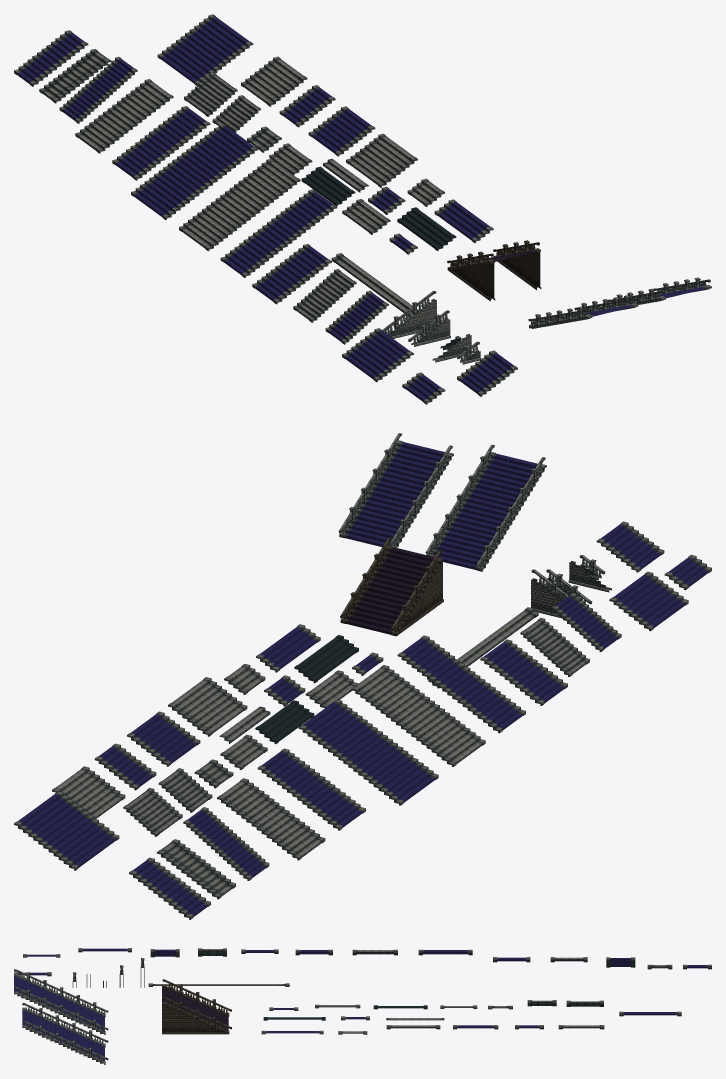
The model's file is EnvMdrMD_Daiseidou_B_Stairs_4S_Handrail.FBX.
3 renders of one model, top to bottom at view 1: azimuth 30°, elevation 25°; view 2: azimuth 150°, elevation 25°; view 3: azimuth 270°, elevation 25°, orthographic. The views are drawn at different scales.
Parts seen in each view (by area): view 1: EnvMdrMD_Daiseidou_B_Stairs_600W20S_Cpt, EnvMdrMD_Daiseidou_B_Stairs_500W20S, EnvMdrMD_Daiseidou_B_Stairs_400W20S_Cpt, EnvMdrMD_Daiseidou_B_Stairs_7W12S_Cpt, EnvMdrMD_Daiseidou_B_Stairs_500W16S_Cpt_Spline, EnvMdrMD_Daiseidou_B_Stairs_400W16S, EnvMdrMD_Daiseidou_B_Stairs_400W16S_Cpt, EnvMdrMD_Daiseidou_B_Stairs_400W12S_Cpt, EnvMdrMD_Daiseidou_B_Stairs_600W8S, EnvMdrMD_Daiseidou_B_Stairs_600W8S_Cpt, EnvMdrMD_Daiseidou_B_Stairs_300W16S_C_Cpt, EnvMdrMD_Daiseidou_B_Stairs_500W8S_Cpt (+20 smaller); view 2: EnvMdrMD_Daiseidou_B_Stairs_500W22S_Cpt_Spline, EnvMdrMD_Daiseidou_B_Stairs_500W20S_Cpt_Spline, EnvMdrMD_Daiseidou_B_Stairs_500W16S_Cpt_Spline, EnvMdrMD_Daiseidou_B_Stairs_600W20S_Cpt, EnvMdrMD_Daiseidou_B_Stairs_500W20S, EnvMdrMD_Daiseidou_B_Stairs_400W20S_Cpt, EnvMdrMD_Daiseidou_B_Stairs_7W12S_Cpt, EnvMdrMD_Daiseidou_B_Stairs_400W16S_Cpt, EnvMdrMD_Daiseidou_B_Stairs_400W16S, EnvMdrMD_Daiseidou_B_Stairs_400W12S_Cpt, EnvMdrMD_Daiseidou_B_Stairs_600W8S_Cpt, EnvMdrMD_Daiseidou_B_Stairs_600W8S (+19 smaller); view 3: EnvMdrMD_Daiseidou_B_Stairs_500W16S_Cpt_Spline, EnvMdrMD_Daiseidou_B_Stairs_500W22S_Cpt_Spline, EnvMdrMD_Daiseidou_B_Stairs_500W20S_Cpt_Spline, EnvMdrMD_Daiseidou_B_Stairs_600W20S_Cpt, EnvMdrMD_Daiseidou_B_Stairs_300W16S_C_Cpt, EnvMdrMD_Daiseidou_B_Stairs_1600W2S, EnvMdrMD_Daiseidou_B_Stairs_7W12S_Cpt, EnvMdrMD_Daiseidou_B_Stairs_300W12S_C_Cpt, EnvMdrMD_Daiseidou_B_Stairs_500W20S, EnvMdrMD_Daiseidou_B_Stairs_400W8S_C, EnvMdrMD_Daiseidou_B_Stairs_600W8S, EnvMdrMD_Daiseidou_B_Stairs_600W8S_Cpt (+1 smaller).
Boxes of the visible parts, left/top/right/bottom form: EnvMdrMD_Daiseidou_B_Stairs_600W20S_Cpt: left=131, top=123, right=258, bottom=219; EnvMdrMD_Daiseidou_B_Stairs_500W20S: left=179, top=158, right=300, bottom=251; EnvMdrMD_Daiseidou_B_Stairs_400W20S_Cpt: left=220, top=189, right=337, bottom=277; EnvMdrMD_Daiseidou_B_Stairs_7W12S_Cpt: left=157, top=14, right=253, bottom=85; EnvMdrMD_Daiseidou_B_Stairs_500W16S_Cpt_Spline: left=447, top=240, right=541, bottom=301; EnvMdrMD_Daiseidou_B_Stairs_400W16S: left=75, top=79, right=173, bottom=153; EnvMdrMD_Daiseidou_B_Stairs_400W16S_Cpt: left=112, top=106, right=210, bottom=180; EnvMdrMD_Daiseidou_B_Stairs_400W12S_Cpt: left=252, top=244, right=331, bottom=304; EnvMdrMD_Daiseidou_B_Stairs_600W8S: left=346, top=133, right=417, bottom=187; EnvMdrMD_Daiseidou_B_Stairs_600W8S_Cpt: left=342, top=328, right=413, bottom=382; EnvMdrMD_Daiseidou_B_Stairs_300W16S_C_Cpt: left=59, top=56, right=137, bottom=123; EnvMdrMD_Daiseidou_B_Stairs_500W8S_Cpt: left=308, top=106, right=375, bottom=156; EnvMdrMD_Daiseidou_B_Stairs_500W22S_Cpt_Spline: left=425, top=444, right=546, bottom=571; EnvMdrMD_Daiseidou_B_Stairs_500W20S_Cpt_Spline: left=338, top=433, right=453, bottom=547; EnvMdrMD_Daiseidou_B_Stairs_500W16S_Cpt_Spline: left=340, top=537, right=443, bottom=636; EnvMdrMD_Daiseidou_B_Stairs_600W20S_Cpt: left=298, top=699, right=438, bottom=805; EnvMdrMD_Daiseidou_B_Stairs_500W20S: left=351, top=665, right=485, bottom=766; EnvMdrMD_Daiseidou_B_Stairs_400W20S_Cpt: left=397, top=635, right=525, bottom=733; EnvMdrMD_Daiseidou_B_Stairs_7W12S_Cpt: left=14, top=791, right=119, bottom=870; EnvMdrMD_Daiseidou_B_Stairs_400W16S_Cpt: left=257, top=748, right=365, bottom=830; EnvMdrMD_Daiseidou_B_Stairs_400W16S: left=217, top=778, right=325, bottom=860; EnvMdrMD_Daiseidou_B_Stairs_400W12S_Cpt: left=480, top=639, right=567, bottom=705; EnvMdrMD_Daiseidou_B_Stairs_600W8S_Cpt: left=609, top=571, right=688, bottom=631; EnvMdrMD_Daiseidou_B_Stairs_600W8S: left=168, top=677, right=247, bottom=736; EnvMdrMD_Daiseidou_B_Stairs_500W16S_Cpt_Spline: left=162, top=979, right=231, bottom=1034; EnvMdrMD_Daiseidou_B_Stairs_500W22S_Cpt_Spline: left=14, top=969, right=108, bottom=1034; EnvMdrMD_Daiseidou_B_Stairs_500W20S_Cpt_Spline: left=22, top=1003, right=108, bottom=1064; EnvMdrMD_Daiseidou_B_Stairs_600W20S_Cpt: left=418, top=949, right=472, bottom=955; EnvMdrMD_Daiseidou_B_Stairs_300W16S_C_Cpt: left=606, top=957, right=635, bottom=967; EnvMdrMD_Daiseidou_B_Stairs_1600W2S: left=148, top=983, right=289, bottom=986; EnvMdrMD_Daiseidou_B_Stairs_7W12S_Cpt: left=619, top=1011, right=681, bottom=1016; EnvMdrMD_Daiseidou_B_Stairs_300W12S_C_Cpt: left=150, top=949, right=179, bottom=957; EnvMdrMD_Daiseidou_B_Stairs_500W20S: left=352, top=949, right=397, bottom=955; EnvMdrMD_Daiseidou_B_Stairs_400W8S_C: left=566, top=1000, right=603, bottom=1006; EnvMdrMD_Daiseidou_B_Stairs_600W8S: left=386, top=1025, right=440, bottom=1029; EnvMdrMD_Daiseidou_B_Stairs_600W8S_Cpt: left=78, top=948, right=131, bottom=952.
Size of the model in its own units: 3249 by 625 by 8428.
